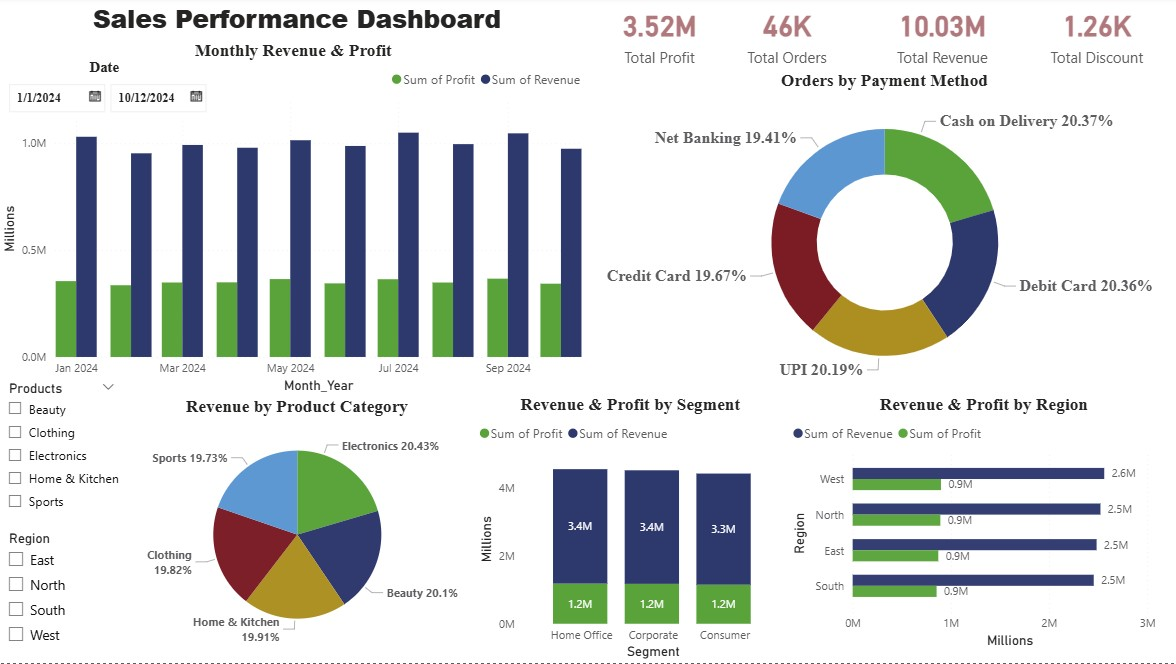

This screenshot's page, from the dashboard's own definition file:
{"tool":"powerbi","page":{"name":"Page 1","canvas":[1280,720],"ordinal":0},"visuals":[{"type":"clusteredBarChart","title":"Revenue & Profit by Region","fields":{"Category":["retail_db business_analytics_dataset_10000_rows.Region"],"Y":["Sum(retail_db business_analytics_dataset_10000_rows.Revenue)","Sum(retail_db business_analytics_dataset_10000_rows.Profit)"]},"box":[852.8,430.4,424,276.8],"z":0},{"type":"pieChart","title":"Revenue by Product Category","fields":{"Category":["retail_db business_analytics_dataset_10000_rows.Product_Category"],"Y":["Sum(retail_db business_analytics_dataset_10000_rows.Revenue)"]},"box":[139.3,432.3,369.2,276.9],"z":1000},{"type":"lineClusteredColumnComboChart","title":"Monthly Revenue & Profit","fields":{"Category":["retail_db business_analytics_dataset_10000_rows.Month_Year"],"Y":["Sum(retail_db business_analytics_dataset_10000_rows.Profit)","Sum(retail_db business_analytics_dataset_10000_rows.Revenue)"]},"box":[0,48.6,639.6,383.8],"z":2000},{"type":"columnChart","title":"Revenue & Profit by  Segment","fields":{"Category":["retail_db business_analytics_dataset_10000_rows.Customer_Segment"],"Y":["Sum(retail_db business_analytics_dataset_10000_rows.Profit)","Sum(retail_db business_analytics_dataset_10000_rows.Revenue)"]},"box":[515.2,430.4,337.6,289.6],"z":3000},{"type":"donutChart","title":"Orders by Payment Method","fields":{"Category":["retail_db business_analytics_dataset_10000_rows.Payment_Method"],"Y":["CountNonNull(retail_db business_analytics_dataset_10000_rows.Order_ID)"]},"box":[640,81.6,636.8,348.8],"z":4000},{"type":"card","fields":{"Values":["Sum(retail_db business_analytics_dataset_10000_rows.Profit)"]},"box":[639.6,0,150.6,81],"z":5000},{"type":"card","fields":{"Values":["Sum(retail_db business_analytics_dataset_10000_rows.Quantity)"]},"box":[761,0,183,81],"z":6000},{"type":"card","fields":{"Values":["Sum(retail_db business_analytics_dataset_10000_rows.Revenue)"]},"box":[944,0,152.2,81],"z":7000},{"type":"card","fields":{"Values":["Sum(retail_db business_analytics_dataset_10000_rows.Discount_Rate)"]},"box":[1096.2,0,181.4,81],"z":8000},{"type":"textbox","box":[0,0,647.4,47.7],"z":9000},{"type":"slicer","fields":{"Values":["retail_db business_analytics_dataset_10000_rows.Region"]},"box":[0,571.6,139.3,149],"z":10000},{"type":"slicer","fields":{"Values":["retail_db business_analytics_dataset_10000_rows.Product_Category"]},"box":[0,409.7,139.3,166.8],"z":11000},{"type":"slicer","title":"Date","fields":{"Values":["retail_db business_analytics_dataset_10000_rows.Month_Year"]},"box":[0,68,231.5,63.1],"z":12000}]}

Visuals, with their boxes in screenshot pixels (x1, y1, x2, y2), scaled from the page's 1280x720 canvas onto the 1176x664 screenshot:
"Revenue & Profit by Region" clusteredBarChart: 784 397 1173 652
"Revenue by Product Category" pieChart: 128 399 467 654
"Monthly Revenue & Profit" lineClusteredColumnComboChart: 0 45 588 399
"Revenue & Profit by  Segment" columnChart: 473 397 784 663
"Orders by Payment Method" donutChart: 588 75 1173 397
card - Sum(retail_db business_analytics_dataset_10000_rows.Profit): 588 0 726 75
card - Sum(retail_db business_analytics_dataset_10000_rows.Quantity): 699 0 867 75
card - Sum(retail_db business_analytics_dataset_10000_rows.Revenue): 867 0 1007 75
card - Sum(retail_db business_analytics_dataset_10000_rows.Discount_Rate): 1007 0 1174 75
textbox: 0 0 595 44
slicer - retail_db business_analytics_dataset_10000_rows.Region: 0 527 128 663
slicer - retail_db business_analytics_dataset_10000_rows.Product_Category: 0 378 128 532
"Date" slicer: 0 63 213 121
